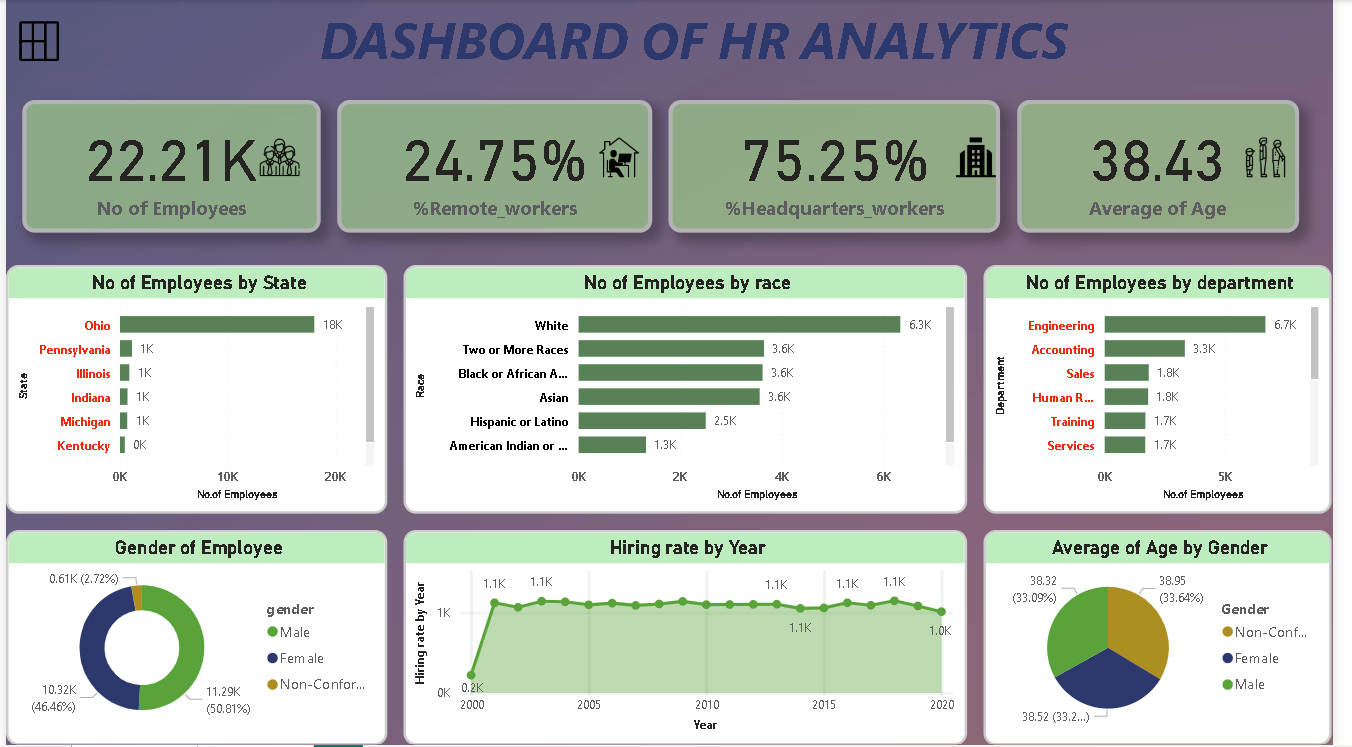

What the dashboard file says about the page in this screenshot:
{"tool":"powerbi","page":{"name":"Dashboard ","canvas":[1280,720],"ordinal":0},"visuals":[{"type":"card","fields":{"Values":["Avg(project_hr_analytics HR.Age)"]},"box":[976,96,272,128],"z":0},{"type":"card","fields":{"Values":["project_hr_analytics HR.%_remote"]},"box":[320,96,304,128],"z":1000},{"type":"card","fields":{"Values":["project_hr_analytics HR.%headquarters"]},"box":[640,96,320,128],"z":2000},{"type":"donutChart","title":" Gender of Employee","fields":{"Category":["project_hr_analytics HR.gender"],"Y":["CountNonNull(project_hr_analytics HR.id)"]},"box":[0,512,368,208],"z":3000},{"type":"barChart","title":"No of Employees by State","fields":{"Y":["CountNonNull(project_hr_analytics HR.id)"],"Category":["project_hr_analytics HR.location_state"]},"box":[0,256,368,240],"z":4000},{"type":"clusteredBarChart","title":"No of Employees by department","fields":{"Category":["project_hr_analytics HR.department"],"Y":["CountNonNull(project_hr_analytics HR.id)"]},"box":[944,256,336,240],"z":5000},{"type":"barChart","title":"No of Employees by race","fields":{"Y":["CountNonNull(project_hr_analytics HR.id)"],"Category":["project_hr_analytics HR.race"]},"box":[384,256,544,240],"z":6000},{"type":"lineChart","title":"Hiring rate by Year","fields":{"Y":["project_hr_analytics HR.HiringratebyYear"],"Category":["project_hr_analytics HR.year"]},"box":[384,512,544,208],"z":7000},{"type":"textbox","box":[80,0,1168,80],"z":8000},{"type":"pieChart","fields":{"Category":["project_hr_analytics HR.gender"],"Y":["Avg(project_hr_analytics HR.Age)"]},"box":[944,512,336,208],"z":9000},{"type":"card","fields":{"Values":["CountNonNull(project_hr_analytics HR.id)"]},"box":[16,96,288,128],"z":10000},{"type":"image","box":[240,128,48,48],"z":11000},{"type":"image","box":[560,128,64,48],"z":12000},{"type":"image","box":[1184,128,64,48],"z":13000},{"type":"image","box":[912,128,48,48],"z":14000},{"type":"image","box":[0,16,64,48],"z":15000}]}

Visuals, with their boxes in screenshot pixels (x1, y1, x2, y2), scaled from the page's 1280x720 canvas onto the 1352x747 screenshot:
card - Avg(project_hr_analytics HR.Age): (x1=1031, y1=100, x2=1318, y2=232)
card - project_hr_analytics HR.%_remote: (x1=338, y1=100, x2=659, y2=232)
card - project_hr_analytics HR.%headquarters: (x1=676, y1=100, x2=1014, y2=232)
" Gender of Employee" donutChart: (x1=0, y1=531, x2=389, y2=746)
"No of Employees by State" barChart: (x1=0, y1=266, x2=389, y2=515)
"No of Employees by department" clusteredBarChart: (x1=997, y1=266, x2=1351, y2=515)
"No of Employees by race" barChart: (x1=406, y1=266, x2=980, y2=515)
"Hiring rate by Year" lineChart: (x1=406, y1=531, x2=980, y2=746)
textbox: (x1=84, y1=0, x2=1318, y2=83)
pieChart - project_hr_analytics HR.gender x Avg(project_hr_analytics HR.Age): (x1=997, y1=531, x2=1351, y2=746)
card - CountNonNull(project_hr_analytics HR.id): (x1=17, y1=100, x2=321, y2=232)
image: (x1=253, y1=133, x2=304, y2=183)
image: (x1=592, y1=133, x2=659, y2=183)
image: (x1=1251, y1=133, x2=1318, y2=183)
image: (x1=963, y1=133, x2=1014, y2=183)
image: (x1=0, y1=17, x2=68, y2=66)
